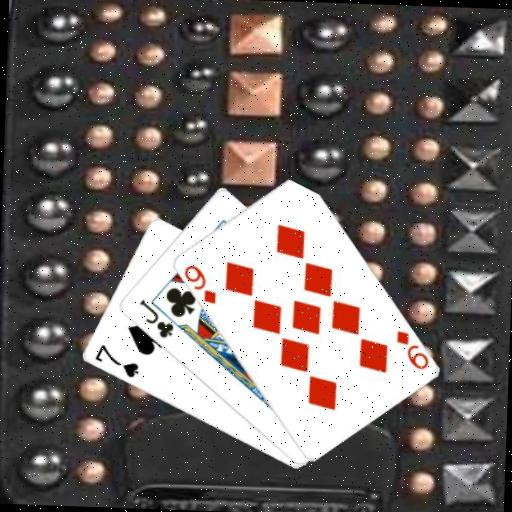7S: (90, 341, 141, 380)
9D: (179, 261, 218, 306), (391, 326, 430, 371)
JC: (135, 295, 176, 340)
